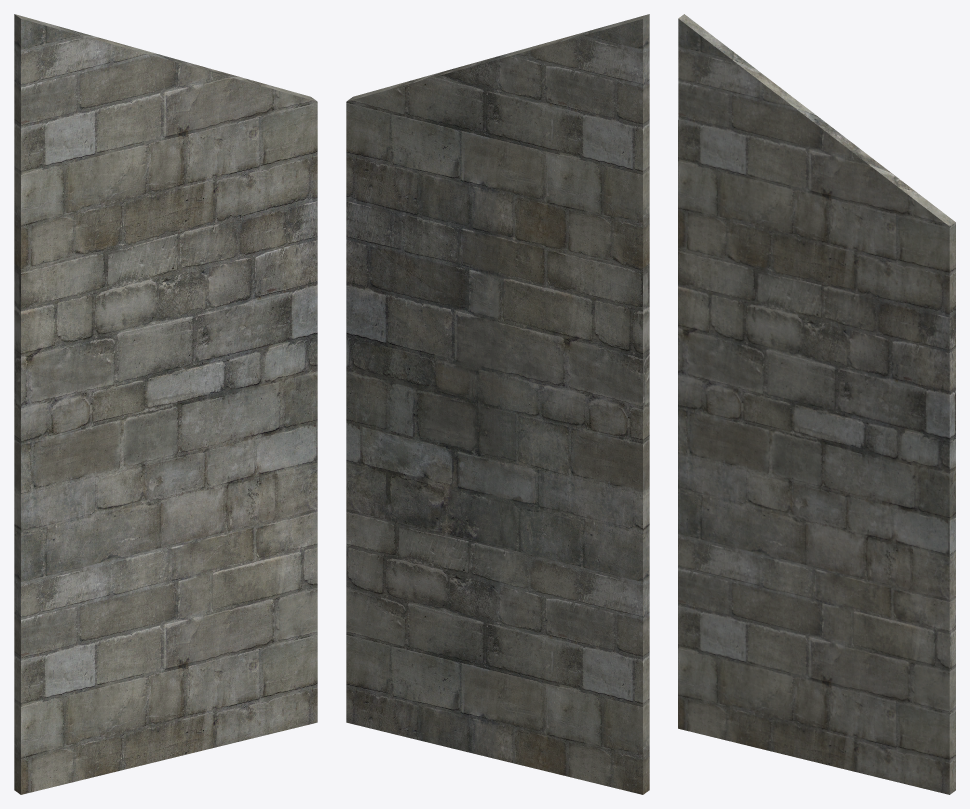
The model's file is bg_lut_lucastle_stairwall03_sm_lkj.FBX.
3 renders of one model, left to right at view 1: azimuth 30°, elevation 25°; view 2: azimuth 150°, elevation 25°; view 3: azimuth 330°, elevation 25°, orthographic. The views are drawn at different scales.
Parts seen in each view (by area): view 1: bg_lut_lucastle_stairwall03_sm_lkj; view 2: bg_lut_lucastle_stairwall03_sm_lkj; view 3: bg_lut_lucastle_stairwall03_sm_lkj.
Part boxes in pixels (<box>): bg_lut_lucastle_stairwall03_sm_lkj: <box>14,14,317,794</box>; bg_lut_lucastle_stairwall03_sm_lkj: <box>346,14,649,794</box>; bg_lut_lucastle_stairwall03_sm_lkj: <box>678,14,955,794</box>.
Size of the model in its own units: 256 by 640 by 10.
